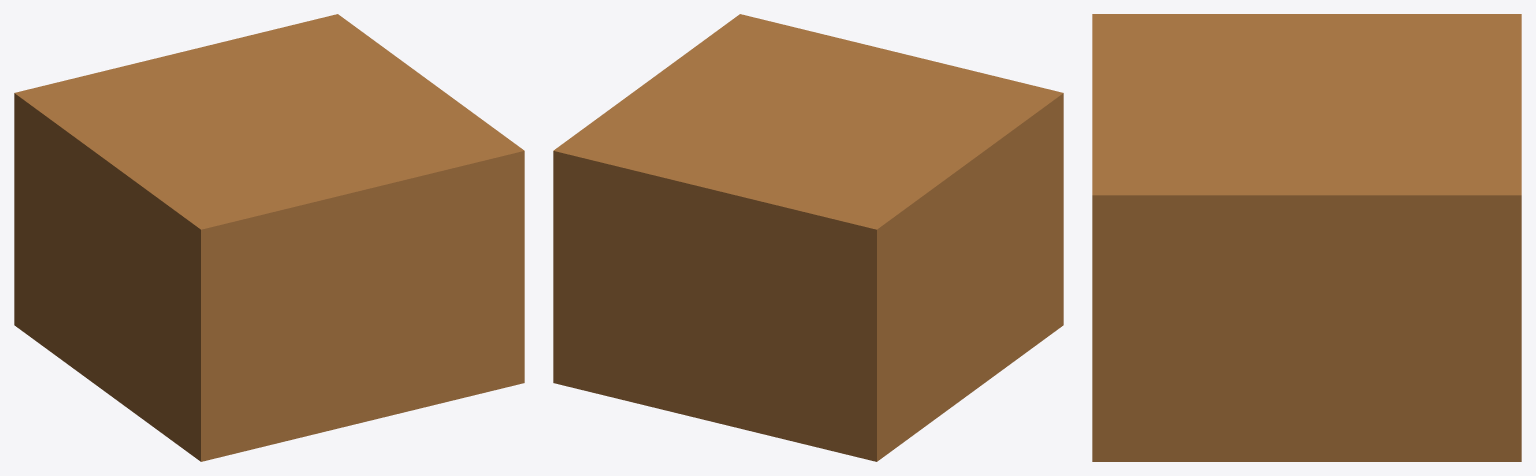
Rendered from house_cabin.gltf.
3 views of the same model, side by side, from view 1: azimuth 30°, elevation 25°; view 2: azimuth 150°, elevation 25°; view 3: azimuth 270°, elevation 25° (orthographic). The views are drawn at different scales.
Visible parts, largest first — view 1: HouseCabin_node; view 2: HouseCabin_node; view 3: HouseCabin_node.
Boxes of the visible parts, left/top/right/bottom form: HouseCabin_node: left=14, top=14, right=524, bottom=461; HouseCabin_node: left=553, top=14, right=1063, bottom=461; HouseCabin_node: left=1092, top=14, right=1521, bottom=461.
Size of the model in its own units: 7 by 4.8 by 7.
